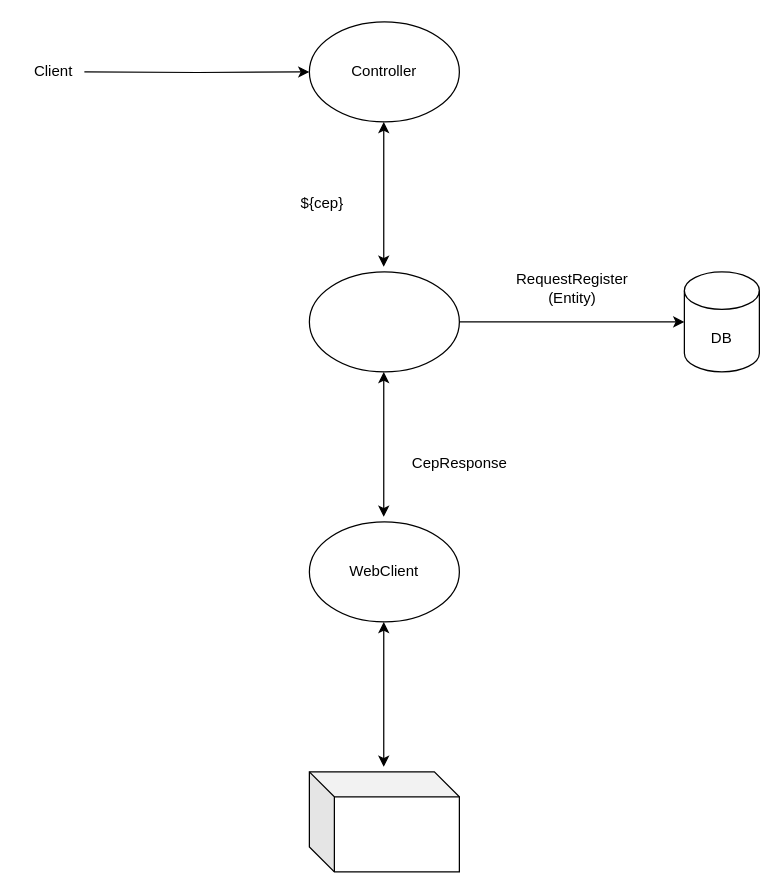
Image size: 781x894. Some labels were removed from this diagram. The shapes that lost their labels are listed below. From the top down, each one's centre as x and y in pixels, then its label:
pixel 383 321: Service
pixel 383 821: WireMock
